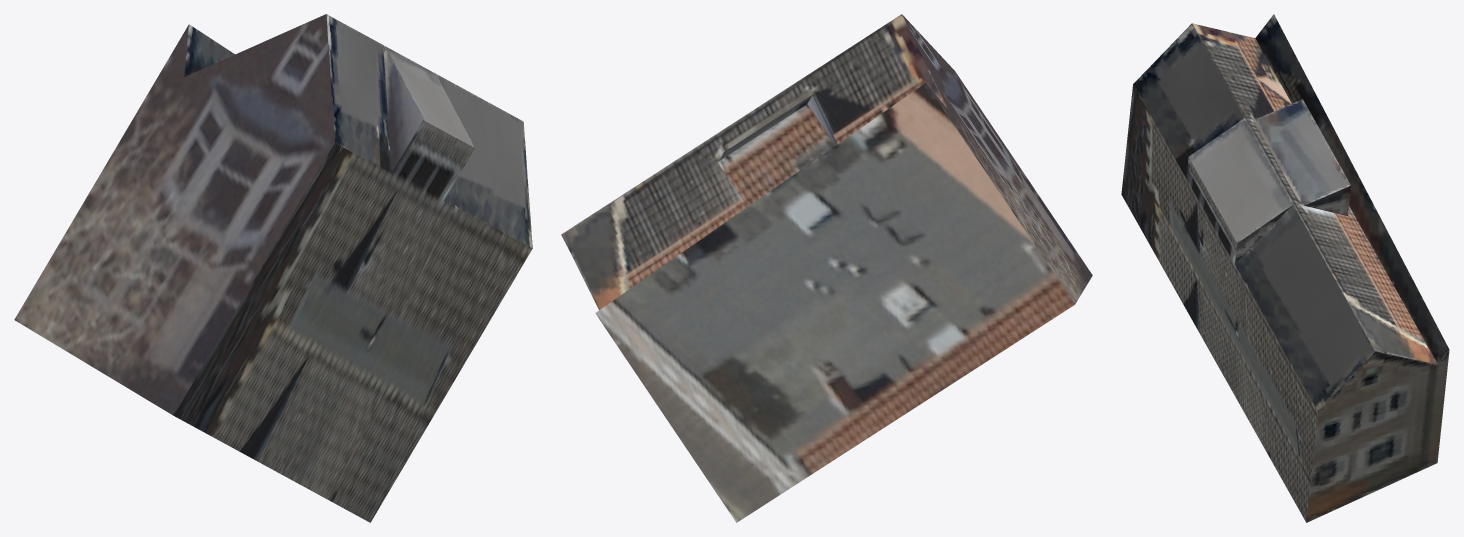
The picture shows the model from 3 angles, left to right: view 1: azimuth 30°, elevation 25°; view 2: azimuth 150°, elevation 25°; view 3: azimuth 270°, elevation 25°; orthographic projection. The views are drawn at different scales.
Parts seen in each view (by area): view 1: BAG_0599100000656924 (×3); view 2: BAG_0599100000656924 (×2); view 3: BAG_0599100000656924 (×4).
Part boxes in pixels (x1,y1,x2,y2): BAG_0599100000656924 (×3): (14, 14, 532, 522); BAG_0599100000656924 (×2): (561, 14, 1092, 522); BAG_0599100000656924 (×4): (1121, 14, 1449, 522).
Bounding box in the file's own units: 15.82 × 15.34 × 10.02.
Materials: 4 (4 with a texture image).
